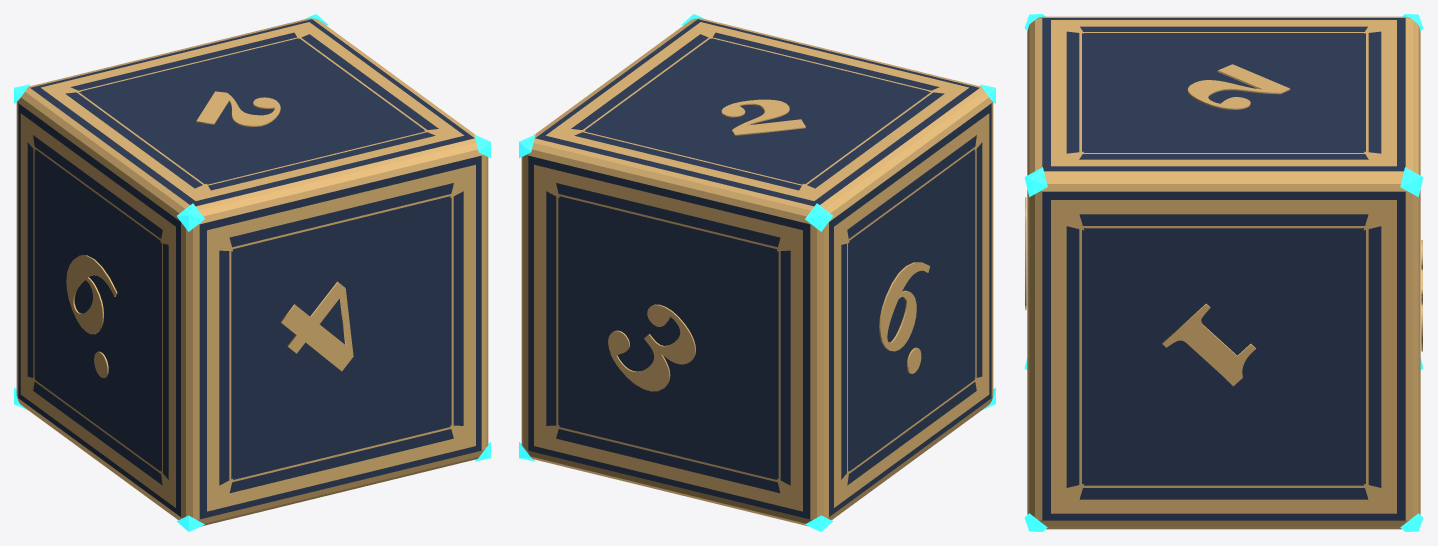
3 renders of one model, left to right at view 1: azimuth 30°, elevation 25°; view 2: azimuth 150°, elevation 25°; view 3: azimuth 270°, elevation 25°, orthographic. The views are drawn at different scales.
Parts seen in each view (by area): view 1: D6_Body, D6_Inlay.005, D6_Inlay.004, D6_Inlay.001, D6_Number_4_Mesh, D6_Number_6._Mesh, D6_Number_2_Mesh, D6_Jewels; view 2: D6_Body, D6_Inlay.002, D6_Inlay.004, D6_Inlay.001, D6_Number_3_Mesh, D6_Number_6._Mesh, D6_Number_2_Mesh, D6_Jewels; view 3: D6_Body, D6_Inlay, D6_Inlay.001, D6_Number_1_Mesh, D6_Number_2_Mesh, D6_Jewels.
Part boxes in pixels (box(x1,y1,x2,y2)): D6_Body: box(16, 18, 488, 526); D6_Inlay.005: box(207, 164, 475, 511); D6_Inlay.004: box(20, 113, 175, 507); D6_Inlay.001: box(41, 22, 463, 200); D6_Number_4_Mesh: box(280, 281, 353, 371); D6_Number_6._Mesh: box(66, 255, 117, 377); D6_Number_2_Mesh: box(196, 91, 280, 126); D6_Jewels: box(14, 14, 490, 531); D6_Body: box(521, 18, 993, 526); D6_Inlay.002: box(534, 164, 802, 511); D6_Inlay.004: box(834, 113, 989, 507); D6_Inlay.001: box(546, 22, 968, 200); D6_Number_3_Mesh: box(608, 304, 695, 391); D6_Number_6._Mesh: box(879, 262, 930, 373); D6_Number_2_Mesh: box(721, 99, 805, 136); D6_Jewels: box(519, 14, 995, 531); D6_Body: box(1027, 16, 1420, 529); D6_Inlay: box(1051, 200, 1396, 513); D6_Inlay.001: box(1051, 20, 1396, 166); D6_Number_1_Mesh: box(1162, 303, 1256, 386); D6_Number_2_Mesh: box(1187, 64, 1290, 109); D6_Jewels: box(1024, 14, 1423, 531).
Size of what is drawn, in the model's own units: 0.8435 by 0.8511 by 0.8435.
